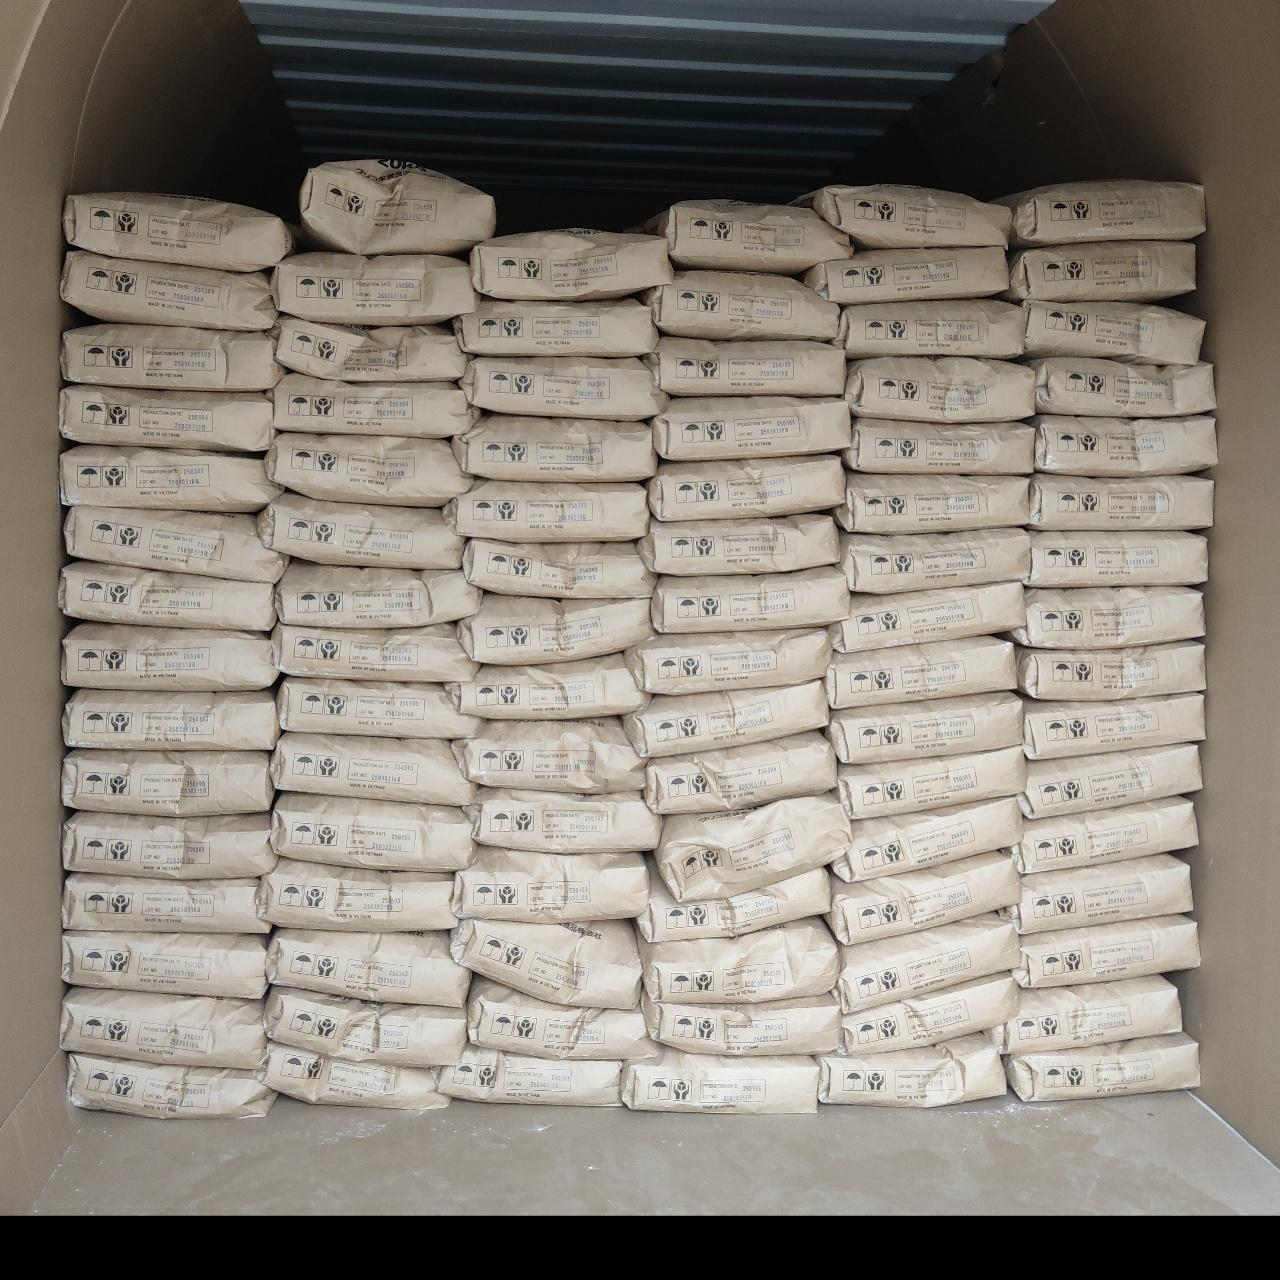sack: (655, 793, 850, 900), (837, 912, 1019, 1013), (62, 192, 293, 271), (825, 851, 1019, 944), (301, 162, 494, 254), (637, 917, 840, 1003), (64, 505, 289, 582), (61, 250, 275, 330), (450, 919, 641, 1007), (62, 987, 266, 1067), (265, 985, 467, 1065), (826, 971, 1019, 1054), (271, 792, 475, 870), (644, 200, 853, 275), (645, 732, 836, 814), (999, 853, 1192, 934), (468, 977, 656, 1060), (834, 798, 1024, 880), (625, 680, 827, 757), (638, 860, 829, 941), (257, 493, 463, 568), (986, 975, 1181, 1053), (267, 929, 467, 1005), (271, 252, 477, 325), (62, 811, 280, 879), (61, 445, 282, 512), (452, 847, 649, 922), (452, 717, 646, 793), (62, 323, 282, 390), (266, 433, 470, 505), (59, 562, 276, 629), (271, 732, 475, 803), (1011, 797, 1198, 874), (62, 623, 279, 689), (826, 692, 1027, 763), (61, 749, 272, 816), (257, 860, 456, 931), (838, 745, 1027, 819), (1013, 914, 1200, 988), (62, 931, 268, 998), (829, 582, 1025, 652), (826, 637, 1017, 708), (61, 386, 272, 450), (644, 271, 839, 340), (267, 373, 477, 437), (1019, 744, 1200, 818), (819, 1035, 1005, 1107), (275, 562, 481, 627), (798, 184, 1010, 247), (470, 233, 672, 299), (626, 628, 828, 694), (459, 357, 669, 420), (652, 566, 849, 633), (1002, 182, 1205, 247), (452, 415, 658, 479), (458, 595, 648, 664), (622, 1046, 819, 1112), (1006, 1034, 1199, 1101), (70, 1054, 273, 1117), (62, 689, 278, 748), (649, 455, 845, 520), (832, 470, 1030, 534), (62, 873, 270, 933), (651, 397, 849, 460), (840, 528, 1031, 593), (256, 1044, 446, 1109), (465, 790, 661, 853), (845, 357, 1033, 422), (445, 657, 645, 718), (277, 678, 480, 738), (274, 318, 465, 381), (642, 991, 838, 1052), (451, 481, 648, 541), (272, 624, 478, 681), (639, 516, 839, 574), (1013, 587, 1203, 648), (804, 247, 1007, 304), (1024, 694, 1202, 759), (645, 337, 844, 395), (453, 299, 659, 355), (1021, 300, 1202, 363), (1028, 357, 1215, 417), (834, 299, 1023, 358), (1035, 415, 1217, 476), (1010, 241, 1194, 301), (463, 540, 654, 597), (1017, 641, 1204, 699), (440, 1045, 622, 1104), (1028, 473, 1213, 530), (845, 418, 1033, 474), (1026, 529, 1207, 586)
